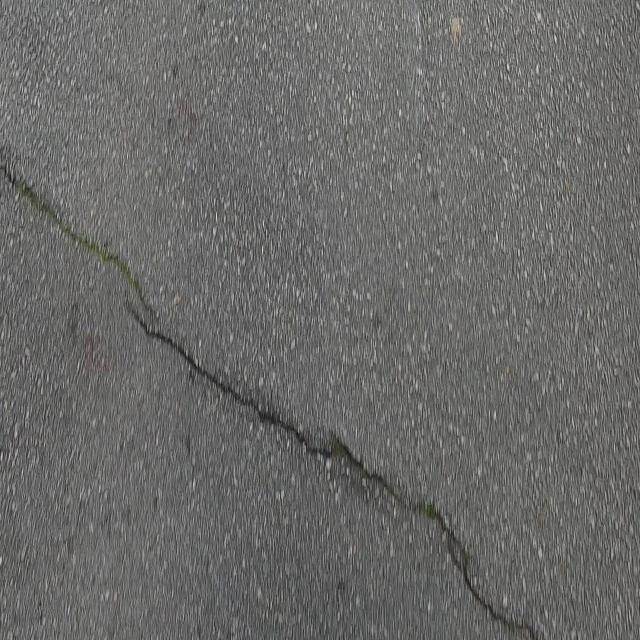Retak-Melintang: (123, 290, 541, 640), (6, 159, 163, 323)
